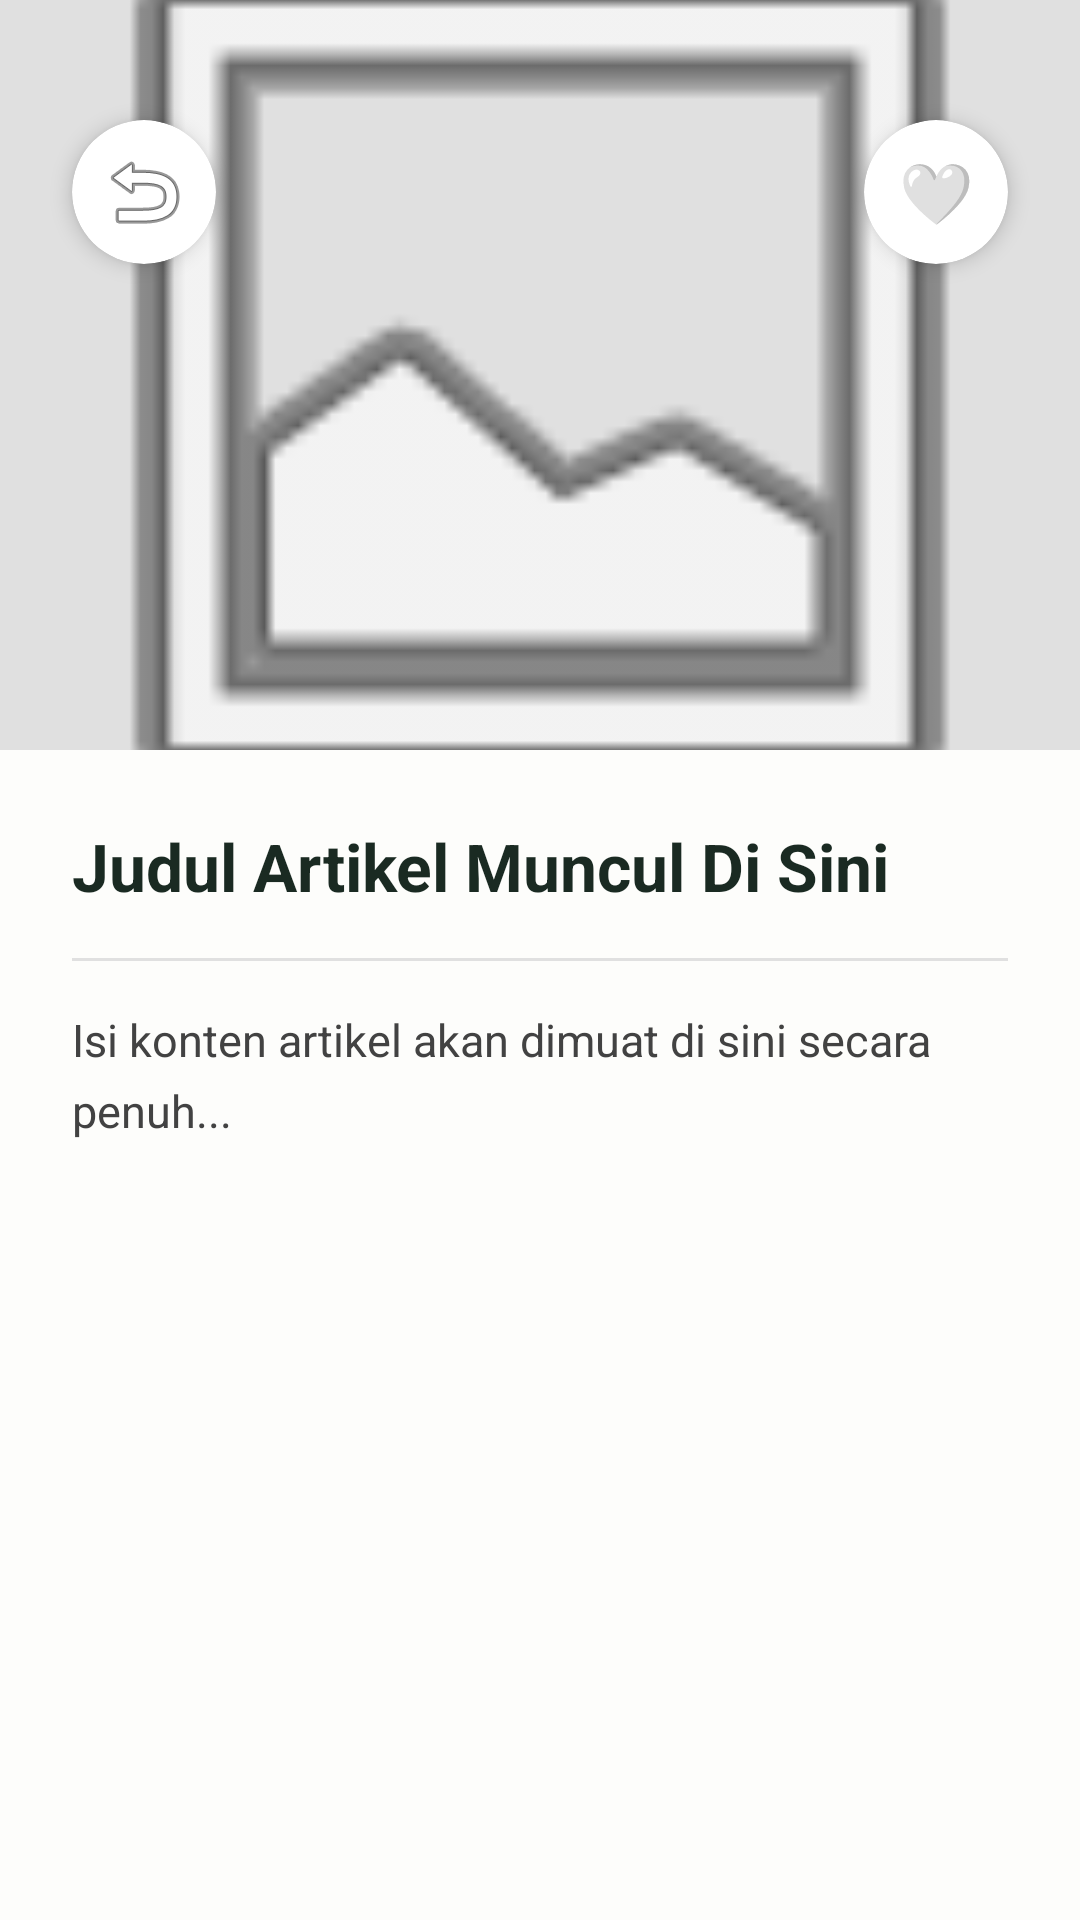

Point at icon controls on the screen. Image size 1080 × 1920, points as (x=x, y=y).
revert: (x=145, y=192)
